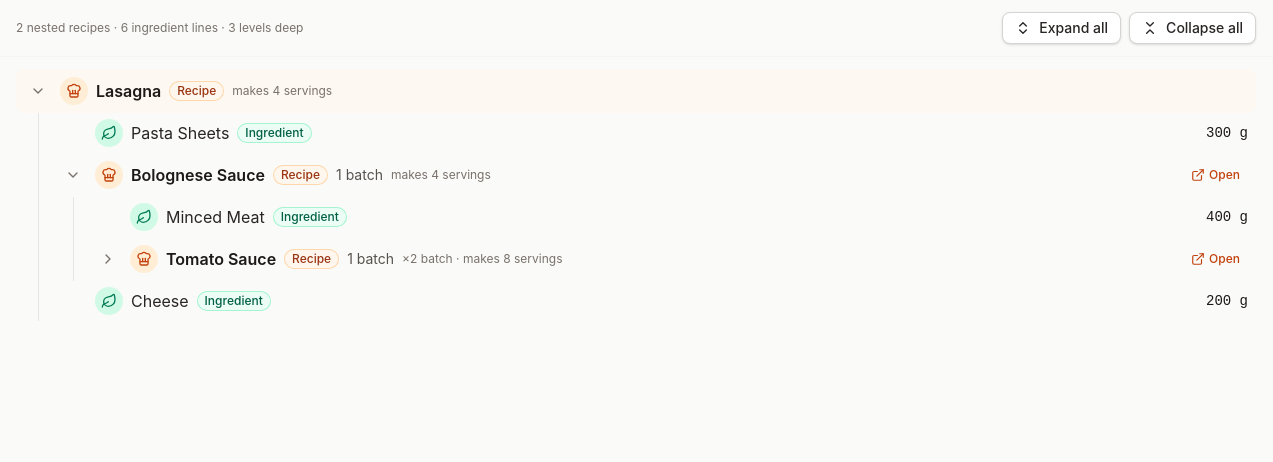
Test: RecipeTree › distinguishes ingredients from recipes and shows quantities and units
This screenshot has width=1273, height=462.
Click the button "Expand all" at (1062, 28), box left=1002, top=12, right=1121, bottom=44
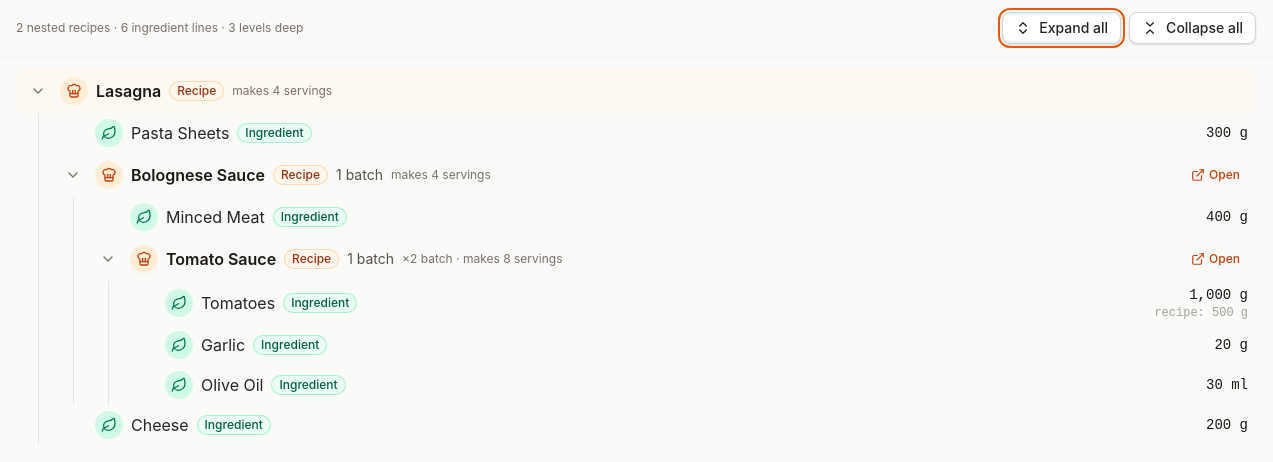
Result: the text "Recipe" is shown 3 times at left=169, top=81, right=224, bottom=101; left=273, top=165, right=328, bottom=185; left=284, top=249, right=339, bottom=269
Result: the text "Ingredient" is shown 6 times at left=237, top=123, right=312, bottom=143; left=273, top=207, right=347, bottom=227; left=283, top=293, right=357, bottom=313; left=253, top=335, right=327, bottom=355; left=272, top=375, right=346, bottom=395; left=197, top=415, right=271, bottom=435
Result: the text "30 ml" is shown at left=1206, top=377, right=1248, bottom=393
